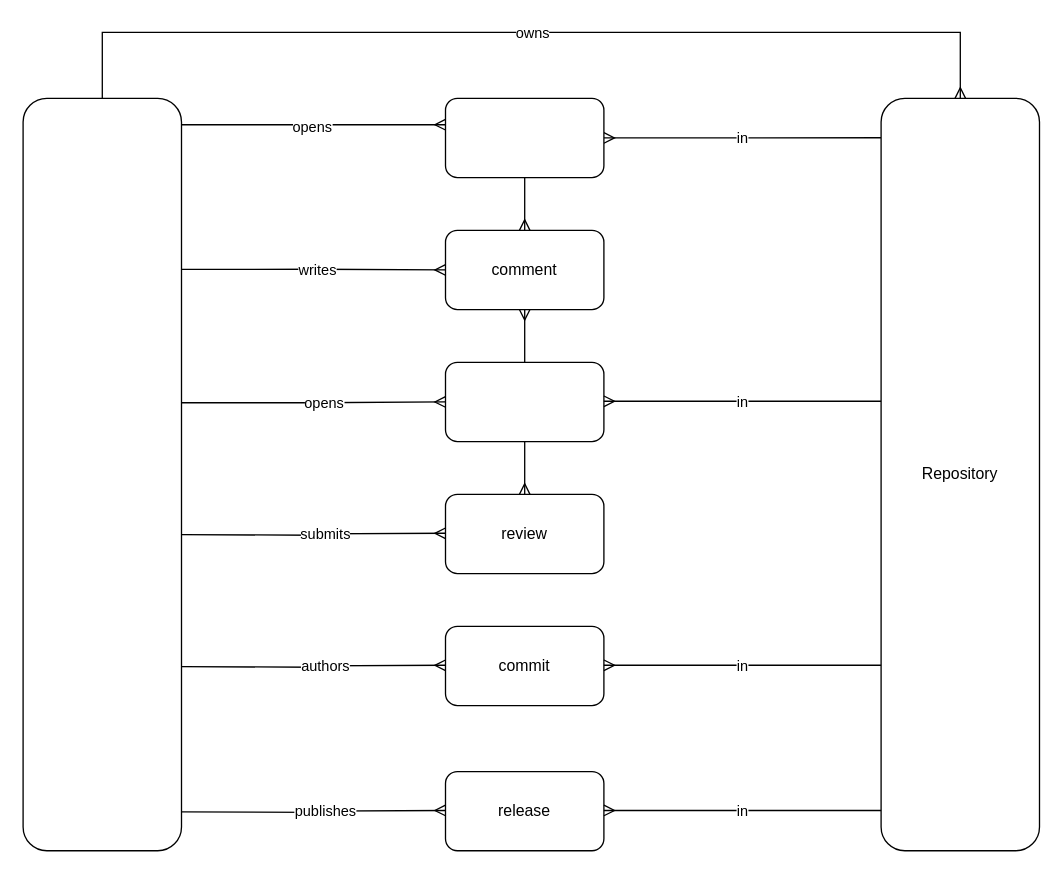
Image size: 1063x874. Some labels were removed from this diagram. Here are the shapes that lost their labels. From the top down, the box of each, then its label:
(444, 97, 604, 178): issue
(444, 361, 604, 442): pull request
(22, 97, 182, 851): Actors (person, bot, org)
